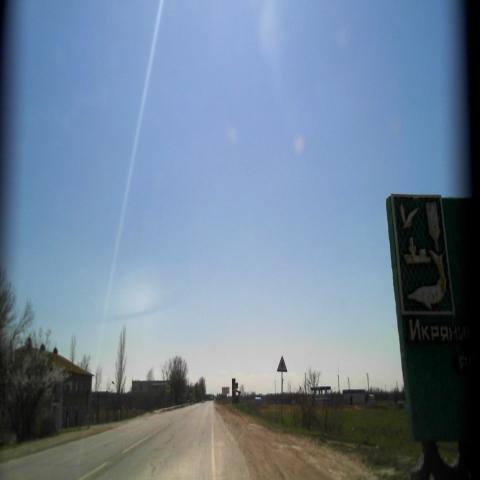1_22: (275, 354, 288, 373)
